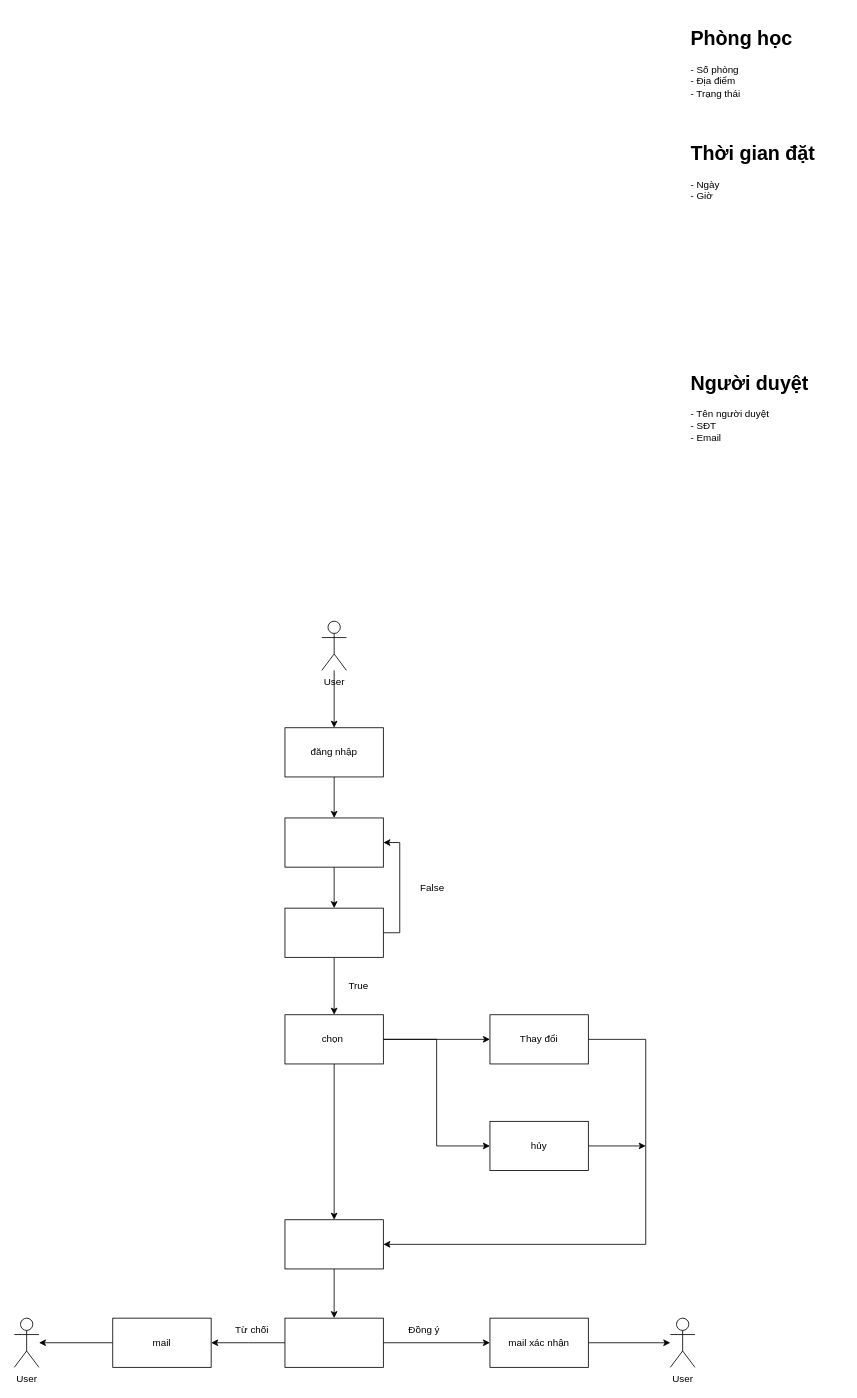
The diagram is 857 pixels wide and 1398 high, and some of its shapes have lost their labels. The centre of each missing label's shape, as x and y in pixels:
"check phòng / địa điểm" goes at pixel 333 932.
"chọn ngày" goes at pixel 333 842.
"Gửi yêu cầu" goes at pixel 333 1244.
"Người duyệt" goes at pixel 333 1342.
